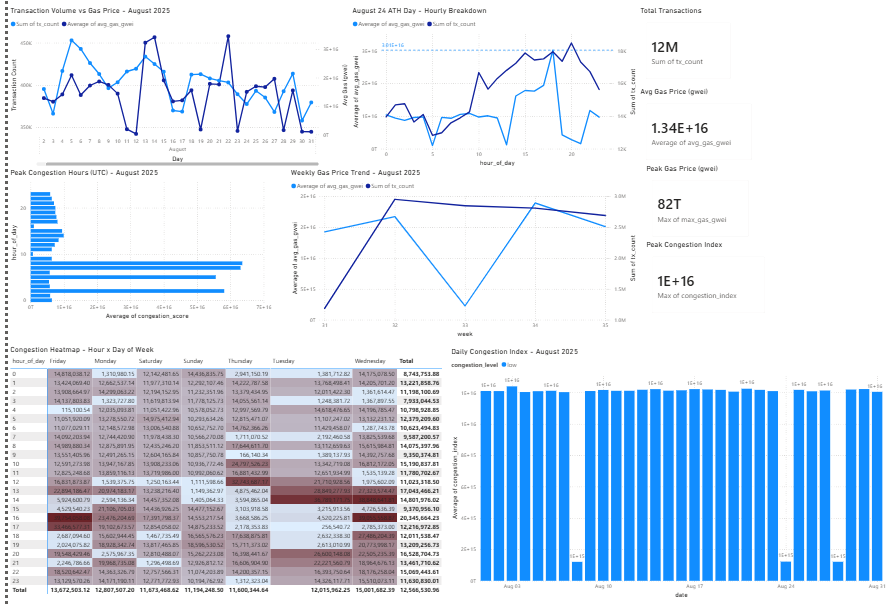

The page's visual inventory and layout, read from the dashboard file:
{"tool":"powerbi","page":{"name":"Page 1","canvas":[2000,1600],"ordinal":0},"visuals":[{"type":"lineChart","title":"Transaction Volume vs Gas Price - August 2025","fields":{"Y":["Sum(ath/fee-paradox.tx_count)"],"Y2":["Avg(ath/fee-paradox.avg_gas_gwei)"],"Category":["ath/fee-paradox.date.Variation.Date Hierarchy.Month","ath/fee-paradox.date.Variation.Date Hierarchy.Day"]},"box":[0,180,760,360],"z":0},{"type":"clusteredBarChart","title":"Peak Congestion Hours (UTC) - August 2025","fields":{"Category":["peak-hours/hourly-congestion.hour_of_day"],"Y":["Avg(peak-hours/hourly-congestion.congestion_score)"]},"box":[0,540,590,340],"z":1000},{"type":"pivotTable","title":"Congestion Heatmap - Hour x Day of Week","fields":{"Rows":["peak-hours/heatmap-matrix.hour_of_day"],"Columns":["peak-hours/heatmap-matrix.day_name"],"Values":["Avg(peak-hours/heatmap-matrix.gas_gwei_fixed)"]},"box":[0,933.3,980,566.7],"z":2000},{"type":"clusteredColumnChart","title":"Daily Congestion Index - August 2025","fields":{"Y":["Avg(congestion/daily-index.congestion_index)"],"Series":["congestion/daily-index.congestion_level"],"Category":["congestion/daily-index.date"]},"box":[980,936.7,976.7,563.3],"z":3000},{"type":"lineChart","title":"August 24 ATH Day - Hourly Breakdown","fields":{"Category":["ath/ath-day-hourly.hour_of_day"],"Y":["Avg(ath/ath-day-hourly.avg_gas_gwei)"],"Y2":["Sum(ath/ath-day-hourly.tx_count)"]},"box":[760,180,640,360],"z":4000},{"type":"lineChart","title":"Weekly Gas Price Trend - August 2025","fields":{"Category":["congestion/weekly-summary.week"],"Y":["Avg(congestion/weekly-summary.avg_gas_gwei)"],"Y2":["Sum(congestion/weekly-summary.tx_count)"]},"box":[623.3,540,776.7,380],"z":5000},{"type":"cardVisual","title":"Total Transactions","fields":{"Data":["Sum(congestion/weekly-summary.tx_count)"]},"box":[1400,180,223.3,180],"z":6000},{"type":"cardVisual","title":"Avg Gas Price (gwei)","fields":{"Data":["Avg(congestion/daily-index.avg_gas_gwei)"]},"box":[1400,360,270,180],"z":7000},{"type":"cardVisual","title":"Peak Gas Price (gwei)","fields":{"Data":["Max(congestion/daily-index.max_gas_gwei)"]},"box":[1413.3,530,250,180],"z":8000},{"type":"cardVisual","title":"Peak Congestion Index ","fields":{"Data":["Max(congestion/daily-index.congestion_index)"]},"box":[1413.3,700,286.7,180],"z":9000}]}

Visuals, with their boxes on the page's 2000x1600 design canvas (x1, y1, x2, y2). These are canvas units, not pixel positions in the 896x607 screenshot, which may show the page scaled, cropped or inside an application window:
"Transaction Volume vs Gas Price - August 2025" lineChart: x1=0, y1=180, x2=760, y2=540
"Peak Congestion Hours (UTC) - August 2025" clusteredBarChart: x1=0, y1=540, x2=590, y2=880
"Congestion Heatmap - Hour x Day of Week" pivotTable: x1=0, y1=933, x2=980, y2=1500
"Daily Congestion Index - August 2025" clusteredColumnChart: x1=980, y1=937, x2=1957, y2=1500
"August 24 ATH Day - Hourly Breakdown" lineChart: x1=760, y1=180, x2=1400, y2=540
"Weekly Gas Price Trend - August 2025" lineChart: x1=623, y1=540, x2=1400, y2=920
"Total Transactions" cardVisual: x1=1400, y1=180, x2=1623, y2=360
"Avg Gas Price (gwei)" cardVisual: x1=1400, y1=360, x2=1670, y2=540
"Peak Gas Price (gwei)" cardVisual: x1=1413, y1=530, x2=1663, y2=710
"Peak Congestion Index " cardVisual: x1=1413, y1=700, x2=1700, y2=880
